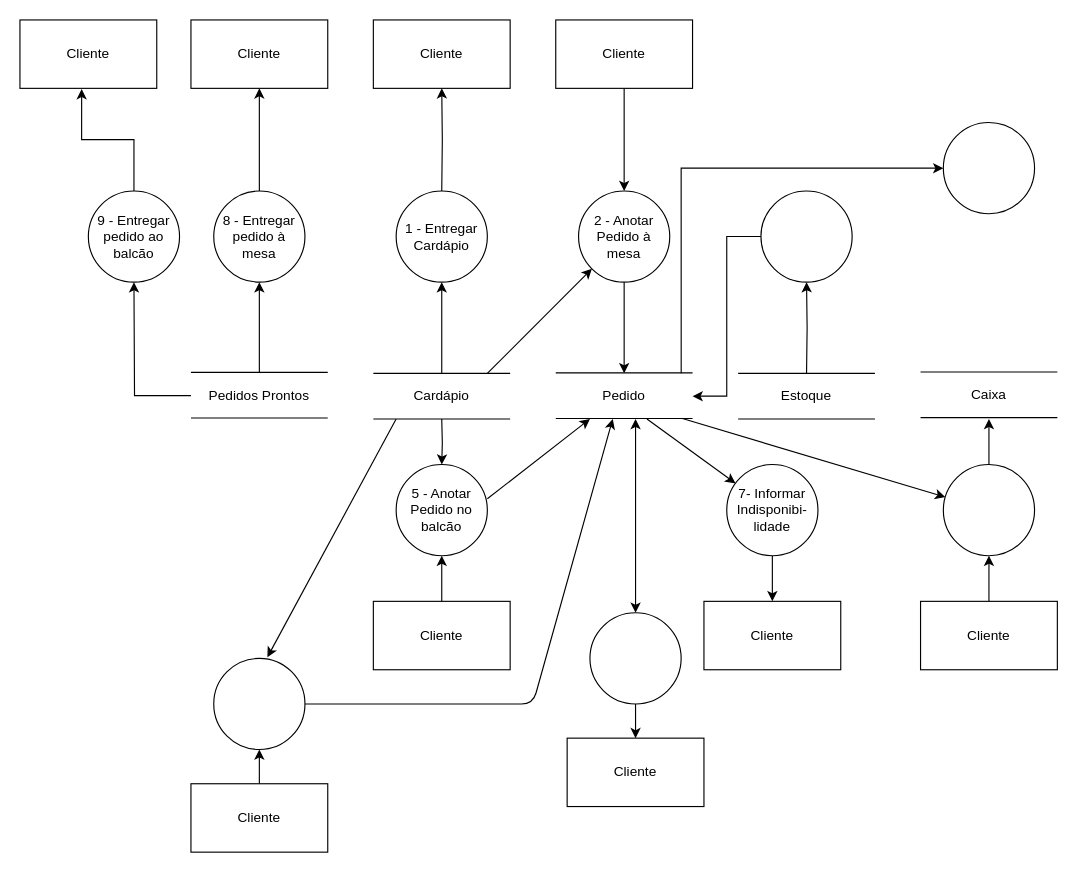
Image size: 1078x872. Some labels were removed from this diagram. Here are the shapes that lost their labels. From the top down, the centre of each, then its label:
pixel 988 167: 4 - Encaminhar pedido a cozinha
pixel 806 236: 3 - Verificar Disponibili- dade
pixel 988 509: 11 - Receber pagamento
pixel 635 658: 10 - Finalizar Pedido
pixel 259 703: 12 - Fazer um novo pedido
